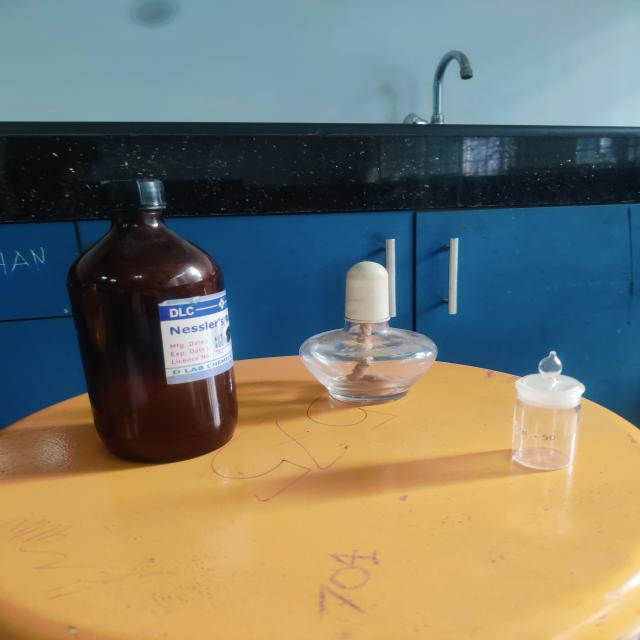Nessler_Reagent_Bottle: (41, 172, 264, 479)
Spirit_Lamp: (290, 250, 446, 414)
Weighing_Bottle: (493, 345, 587, 483)
